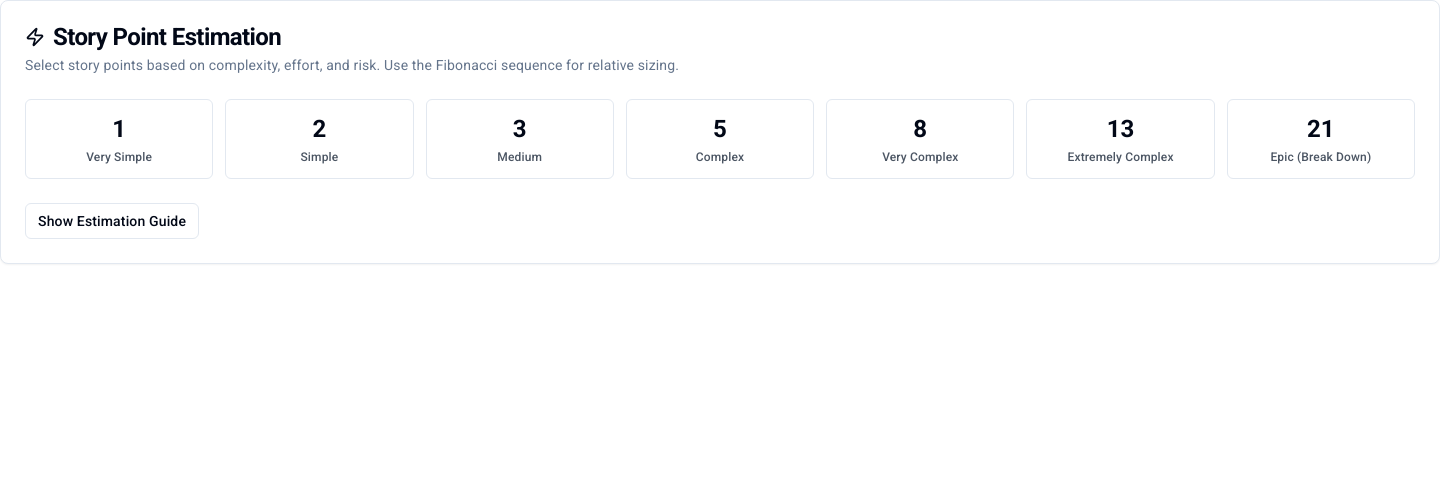
it: StoryPointEstimator › shows warning for 21 points
Click the button "21 Epic (Break Down)": [1321, 139] box [1227,99,1415,179]
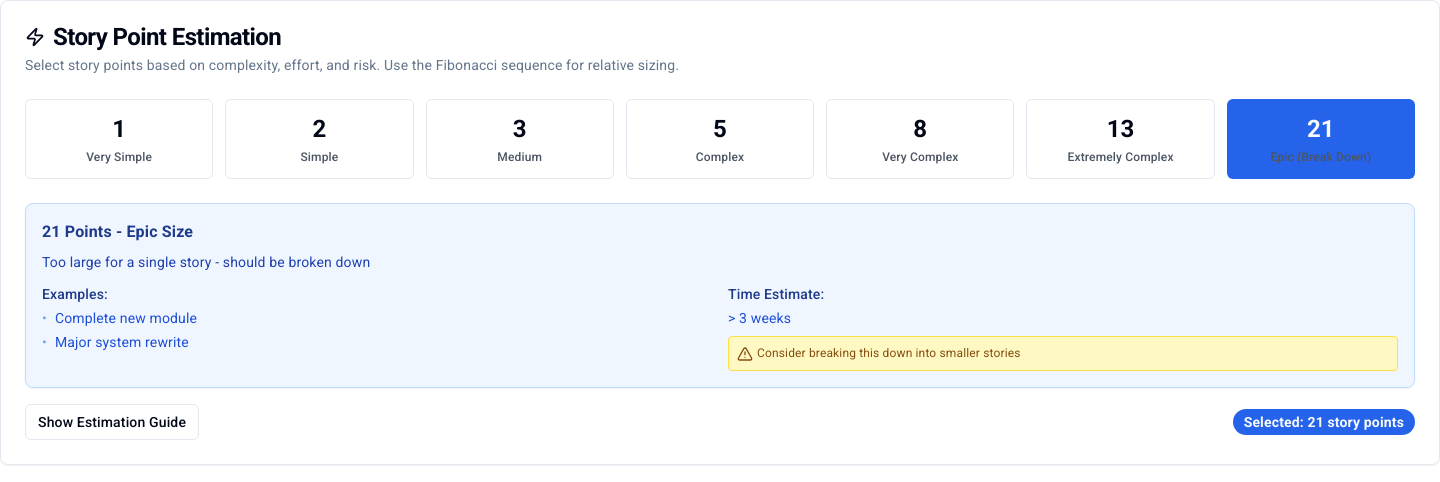
Check: the text "Consider breaking this down into smaller stories" is shown, box [728,336,1398,371]
